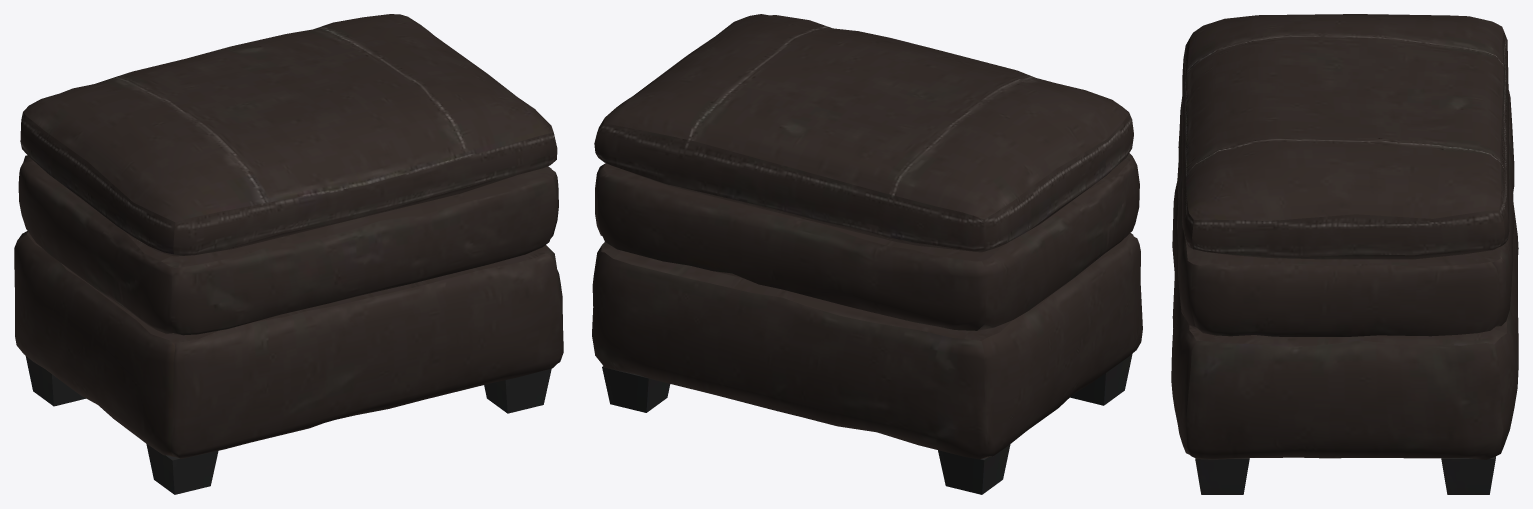
File: ph-ottoman-leather-low.glb
3 renders of one model, left to right at view 1: azimuth 30°, elevation 25°; view 2: azimuth 150°, elevation 25°; view 3: azimuth 270°, elevation 25°, orthographic.
Visible parts, largest first — view 1: Ottoman_01; view 2: Ottoman_01; view 3: Ottoman_01.
Boxes of the visible parts, left/top/right/bottom form: Ottoman_01: left=14, top=14, right=563, bottom=494; Ottoman_01: left=592, top=14, right=1142, bottom=494; Ottoman_01: left=1171, top=14, right=1518, bottom=494.
Size of the model in its own units: 0.8842 by 0.6243 by 0.6211.
1 material, 1 textured.
